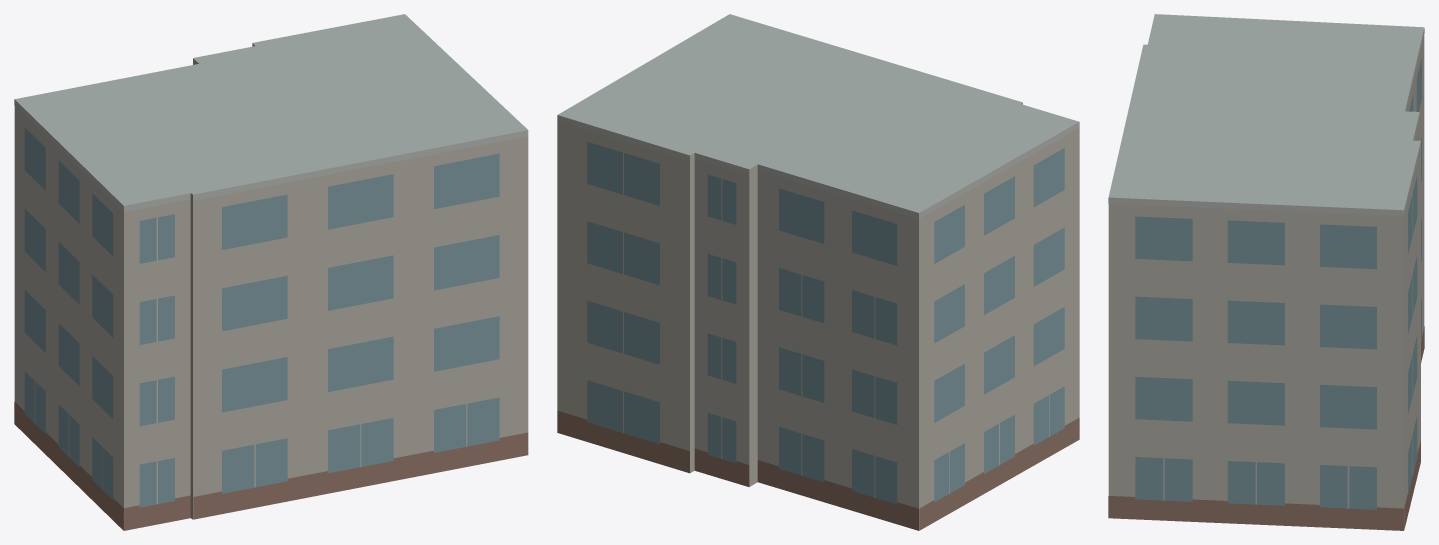
The model's file is survey-upis-32670741.glb.
The picture shows the model from 3 angles, left to right: view 1: azimuth 30°, elevation 25°; view 2: azimuth 150°, elevation 25°; view 3: azimuth 270°, elevation 25°; orthographic projection. The views are drawn at different scales.
Parts seen in each view (by area): view 1: survey-upis-32670741.tmp; view 2: survey-upis-32670741.tmp; view 3: survey-upis-32670741.tmp.
Boxes of the visible parts, x1,y1,x2,y2 form: survey-upis-32670741.tmp: [14, 14, 528, 530]; survey-upis-32670741.tmp: [557, 14, 1079, 530]; survey-upis-32670741.tmp: [1108, 14, 1424, 530].
Size of the model in its own units: 17.2 by 13.1 by 11.71.
